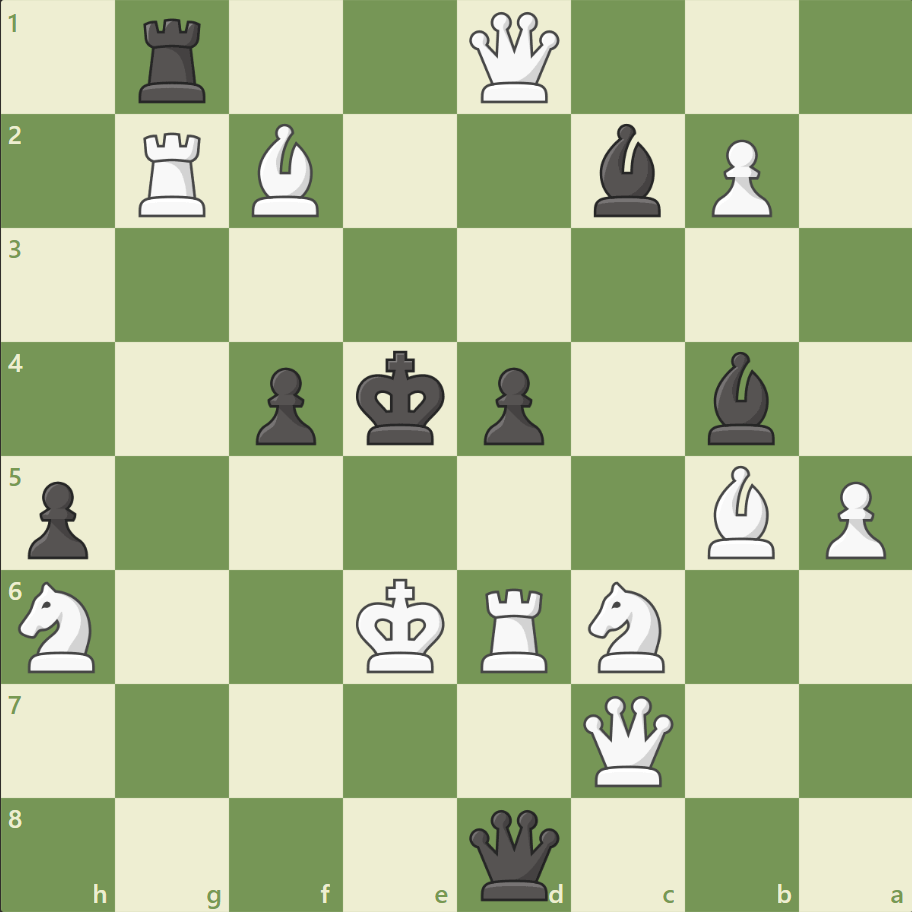B: (698, 460, 782, 563), (244, 120, 328, 222)
K: (351, 571, 451, 679)
N: (579, 575, 676, 677), (11, 575, 108, 677)
P: (701, 132, 776, 223), (815, 473, 889, 564)
Q: (578, 690, 677, 789), (464, 9, 563, 108)
R: (473, 579, 556, 676), (133, 125, 215, 222)
b: (698, 347, 782, 449), (585, 120, 669, 222)
k: (351, 344, 451, 452)
p: (20, 473, 95, 564), (474, 359, 549, 450), (247, 359, 322, 450)
q: (464, 804, 563, 903)
r: (133, 12, 215, 109)
